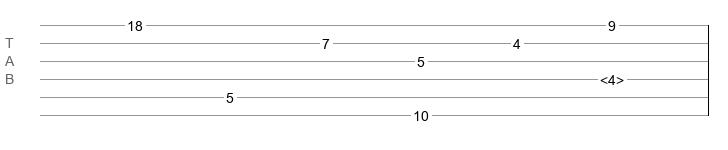10: (413, 108, 429, 118)
18: (127, 18, 143, 28)
4: (513, 36, 521, 46)
5: (226, 90, 234, 100), (417, 54, 425, 64)
7: (322, 36, 330, 46)
9: (608, 18, 616, 28)
harmonic: (600, 72, 624, 82)
